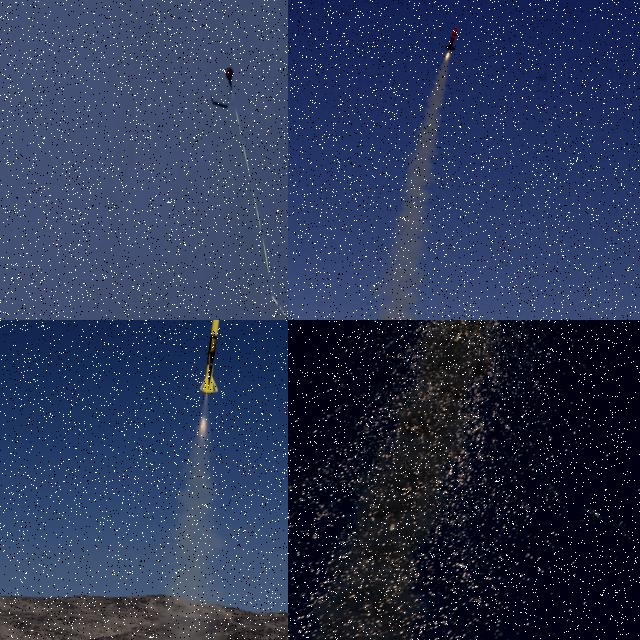Rocket: (199, 320, 222, 394), (271, 295, 288, 320), (445, 28, 458, 52)
